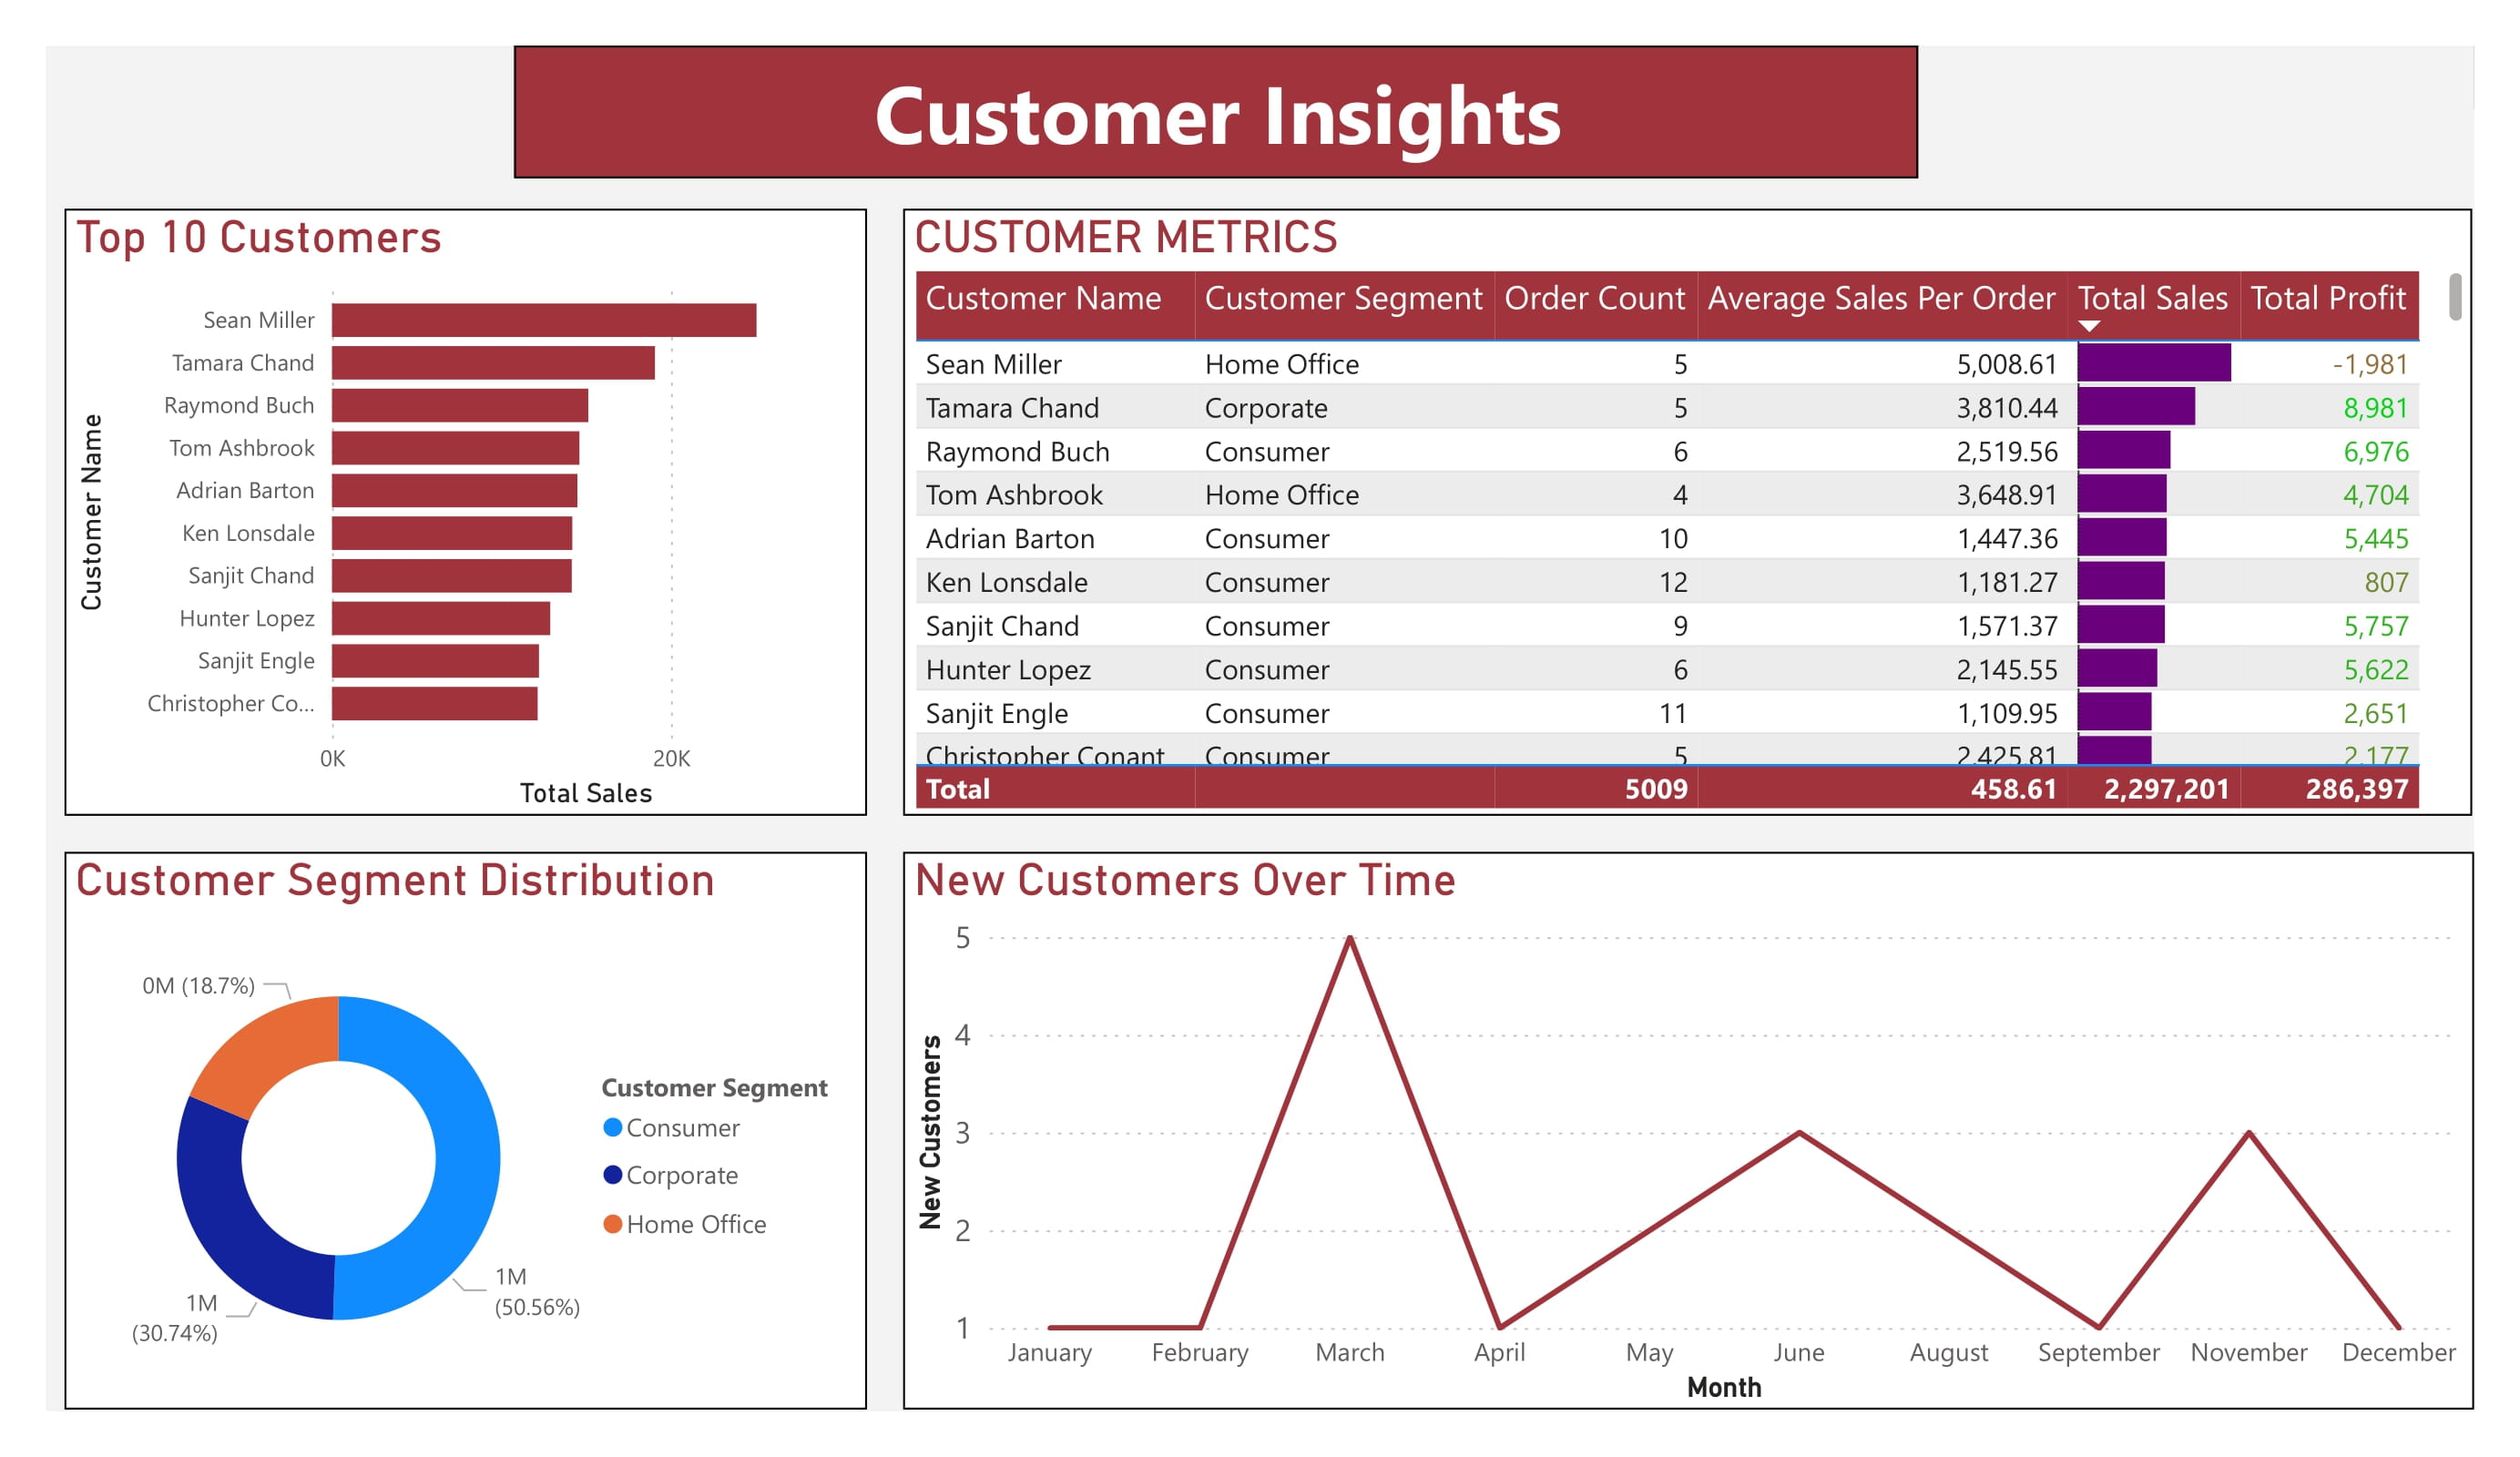

The page's visual inventory and layout, read from the dashboard file:
{"tool":"powerbi","page":{"name":"Customer Insights","canvas":[1280,720],"ordinal":1},"visuals":[{"type":"barChart","title":"Top 10 Customers","fields":{"Category":["Customers.Customer Name"],"Y":["Orders.Total Sales"]},"box":[10,85.8,423.3,320.4],"z":0},{"type":"donutChart","title":"Customer Segment Distribution","fields":{"Category":["Customers.Customer Segment"],"Y":["Orders.Total Sales"]},"box":[10,424.8,423.3,294.6],"z":1000},{"type":"tableEx","title":"CUSTOMER METRICS","fields":{"Values":["Customers.Customer Name","Customers.Customer Segment","Orders.Order Count","Orders.Average Sales Per Order","Orders.Total Sales","Orders.Total Profit"]},"box":[451.9,85.8,826.6,320.4],"z":2000},{"type":"lineChart","title":"New Customers Over Time","fields":{"Category":["Orders.Order Date.Variation.Date Hierarchy.Month"],"Y":["Customers.New Customers"]},"box":[451.9,424.8,828.1,294.6],"z":3000},{"type":"textbox","box":[247.4,0,739.4,70.1],"z":3003}]}

Visuals, with their boxes on the page's 1280x720 design canvas (x1, y1, x2, y2). These are canvas units, not pixel positions in the 2520x1457 screenshot, which may show the page scaled, cropped or inside an application window:
"Top 10 Customers" barChart: box=[10, 86, 433, 406]
"Customer Segment Distribution" donutChart: box=[10, 425, 433, 719]
"CUSTOMER METRICS" tableEx: box=[452, 86, 1278, 406]
"New Customers Over Time" lineChart: box=[452, 425, 1280, 719]
textbox: box=[247, 0, 987, 70]
